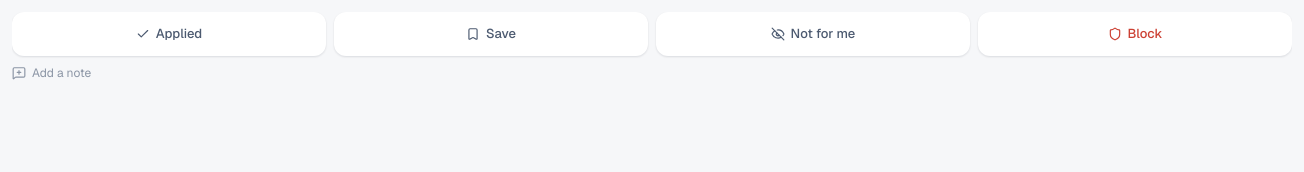
Test: <FeedbackActions /> › shows the expired-link message on 410 and does NOT mark the button
Click the button "Applied": (169, 34) [12,12,326,56]
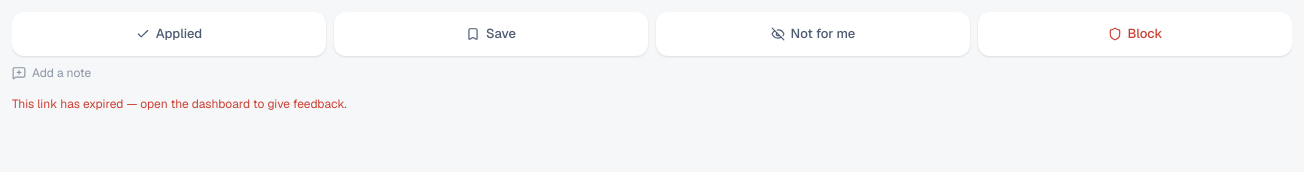
Now the message shows "expired", box [12,96,347,112]
